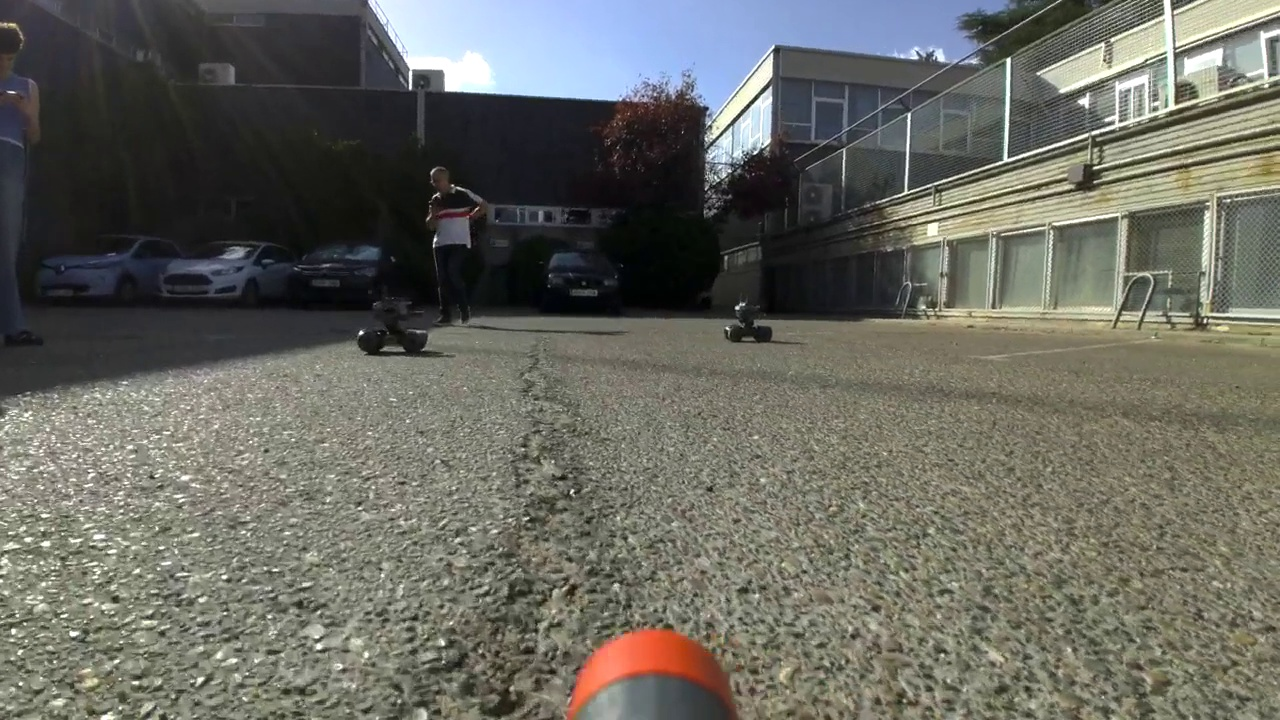robot: (351, 285, 428, 353), (724, 290, 770, 340)
